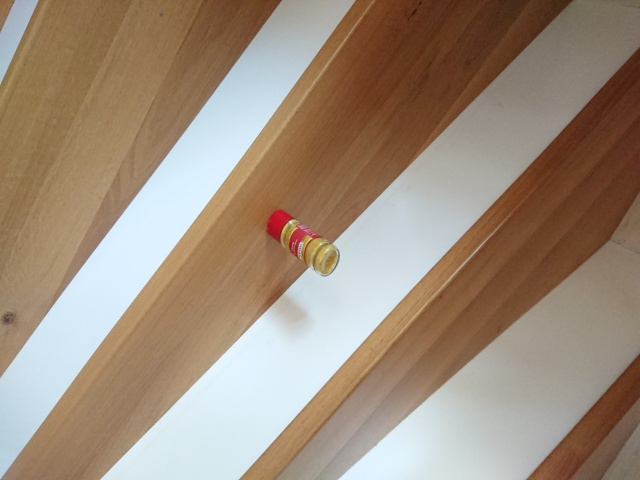Kotanyi Curry Spices Mix 70g: (264, 208, 342, 279)
